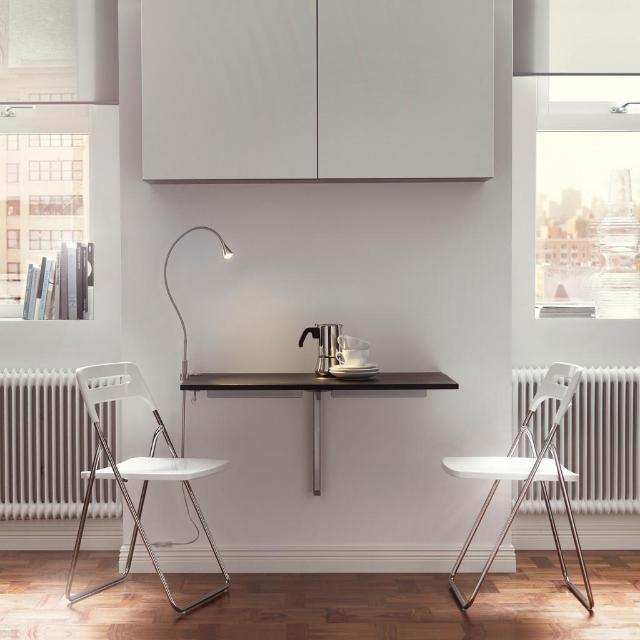chair: (66, 361, 230, 612), (442, 361, 592, 612)
curtain: (0, 5, 119, 103), (514, 5, 640, 74)
lamp: (164, 225, 234, 379)
shelf: (141, 5, 494, 180)
table: (180, 371, 459, 494)
